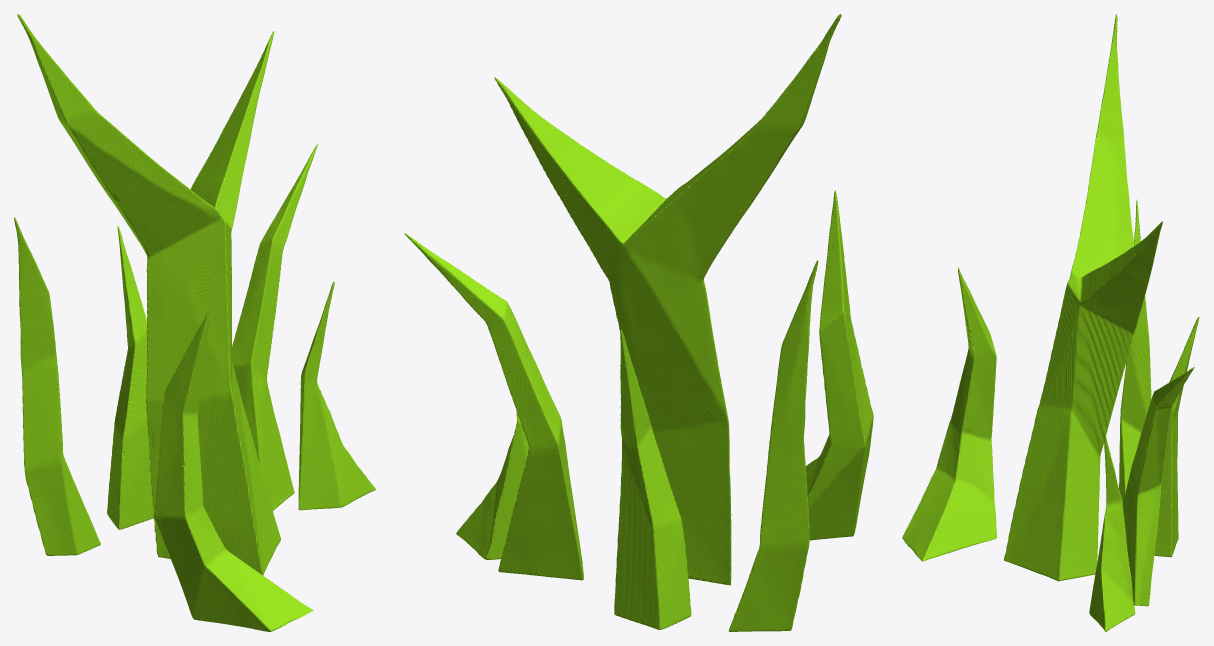
Rendered from трава сука высокая.fbx.
The picture shows the model from 3 angles, left to right: view 1: azimuth 30°, elevation 25°; view 2: azimuth 150°, elevation 25°; view 3: azimuth 270°, elevation 25°; orthographic projection. The views are drawn at different scales.
Visible parts, largest first — view 1: Mesh1_Mesh1_016; view 2: Mesh1_Mesh1_016; view 3: Mesh1_Mesh1_016.
Boxes of the visible parts, x1,y1,x2,y2 form: Mesh1_Mesh1_016: (14, 14, 375, 631); Mesh1_Mesh1_016: (404, 14, 873, 631); Mesh1_Mesh1_016: (902, 14, 1199, 631).
Size of the model in its own units: 308 by 466 by 265.
